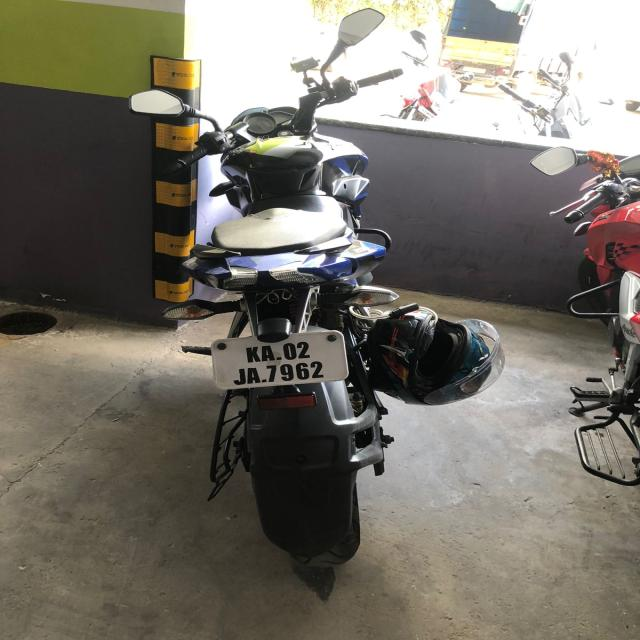number plate: (209, 329, 349, 390)
